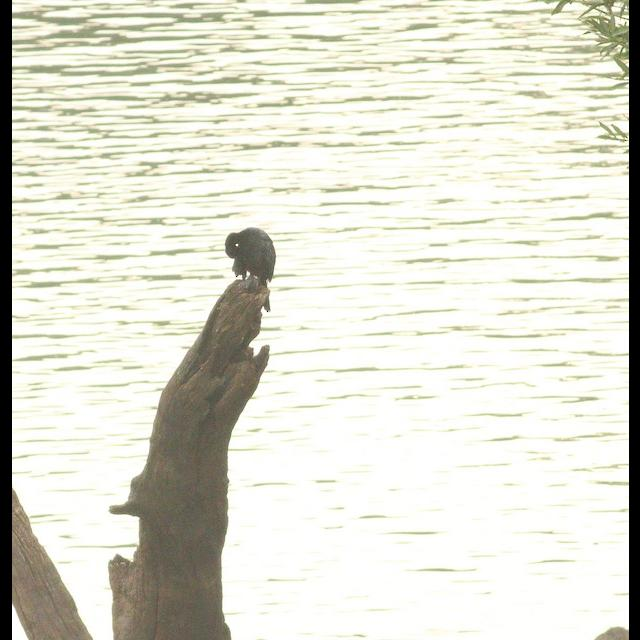cormorant: (212, 222, 278, 318)
